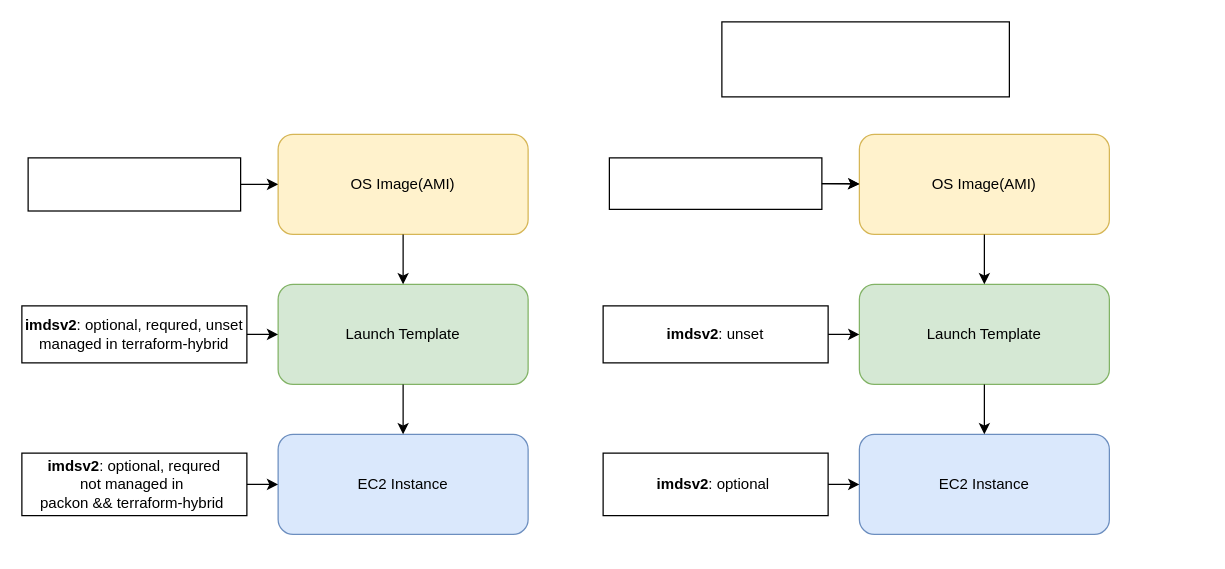
The diagram is 1225 pixels wide and 569 high, and some of its shapes have lost their labels. Each missing label, with the box of its shape:
Current Circumstances: (721, 21, 1009, 97)
imdsv2_suport : unset: (608, 157, 822, 209)
imdsv2_support : v2, unset managed in packon: (27, 157, 241, 211)
